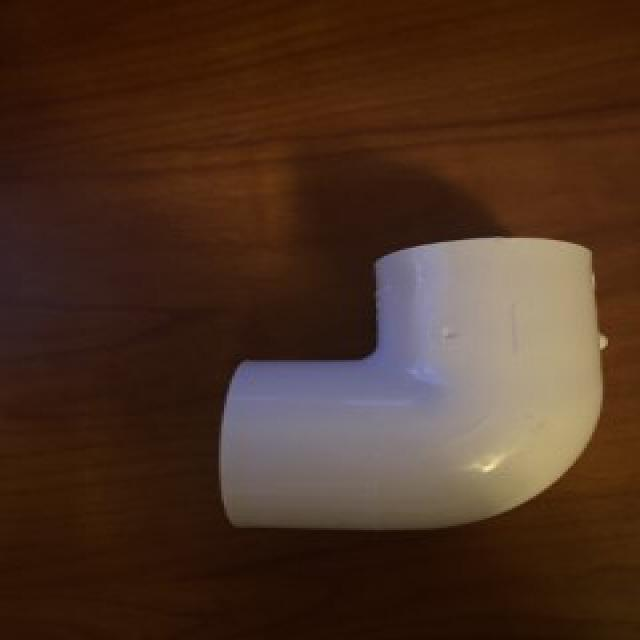L Joint: (216, 238, 606, 534)
